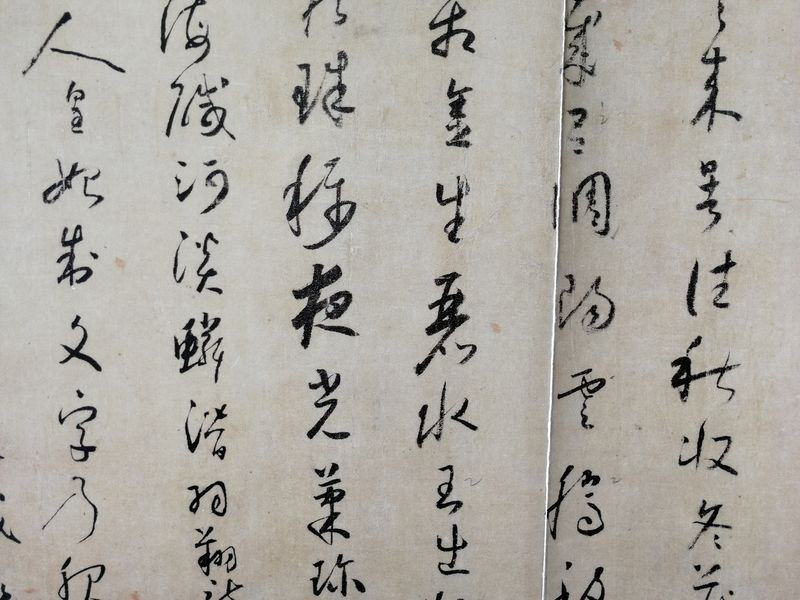zi: (21, 10, 131, 77), (283, 153, 358, 250), (416, 270, 477, 377), (291, 261, 360, 347), (167, 70, 241, 143), (672, 332, 742, 407), (687, 46, 745, 136), (293, 50, 358, 130), (546, 461, 608, 542), (167, 311, 232, 383), (552, 267, 615, 337), (551, 171, 614, 240), (549, 366, 607, 439), (172, 230, 231, 298), (679, 418, 741, 480), (558, 1, 602, 87), (45, 470, 96, 544), (39, 157, 111, 209), (418, 380, 476, 444), (303, 365, 349, 445), (57, 389, 104, 467), (171, 153, 229, 215), (431, 173, 479, 246), (154, 1, 212, 61), (423, 3, 479, 64), (182, 393, 231, 462), (437, 75, 480, 151), (686, 253, 737, 314), (309, 465, 351, 539), (56, 222, 101, 290), (305, 551, 365, 600), (59, 311, 102, 374), (195, 523, 245, 573), (689, 498, 734, 552), (549, 557, 603, 600), (59, 555, 109, 600), (696, 159, 724, 234), (436, 521, 472, 578), (690, 562, 738, 600), (184, 480, 229, 519), (436, 462, 466, 519), (559, 103, 591, 156), (61, 78, 89, 135)
